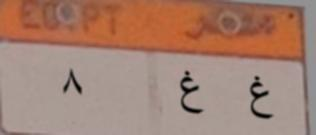8: (59, 64, 85, 103)
ghayn: (176, 66, 207, 123), (244, 72, 276, 127)
